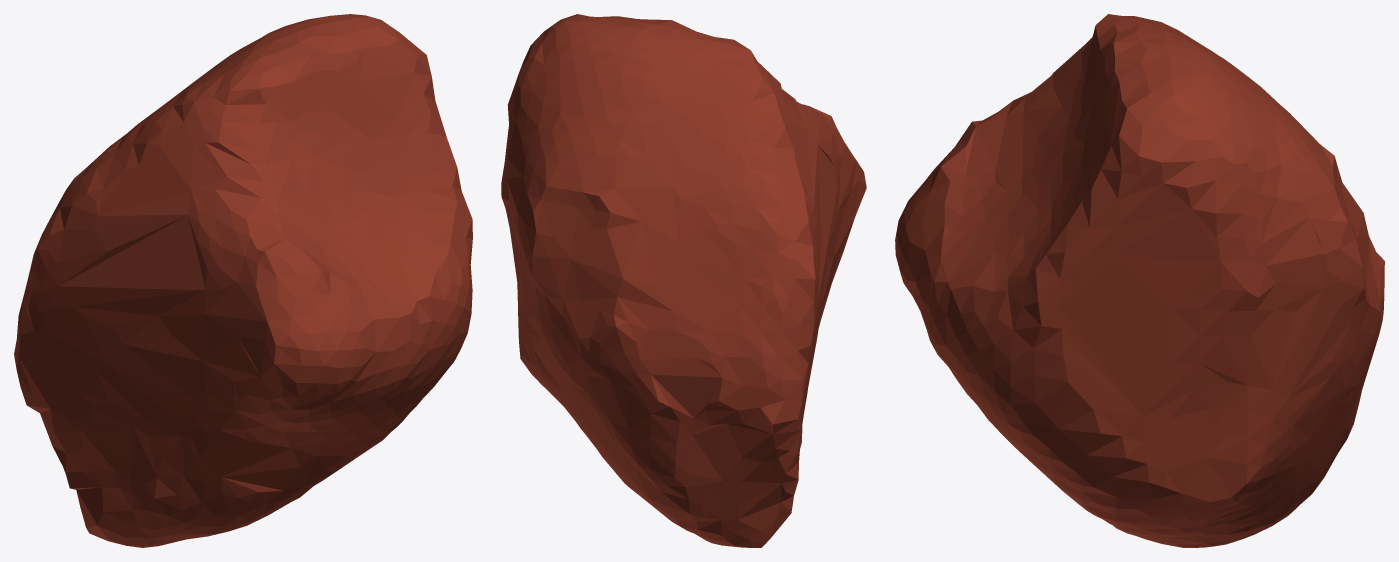
The model's file is Model_630_RH__Spinal_vestibular_nucleus_(SpVe).obj.
The picture shows the model from 3 angles, left to right: view 1: azimuth 30°, elevation 25°; view 2: azimuth 150°, elevation 25°; view 3: azimuth 270°, elevation 25°; orthographic projection. The views are drawn at different scales.
Bounding box in the file's own units: 1.51 × 2.07 × 1.65.
